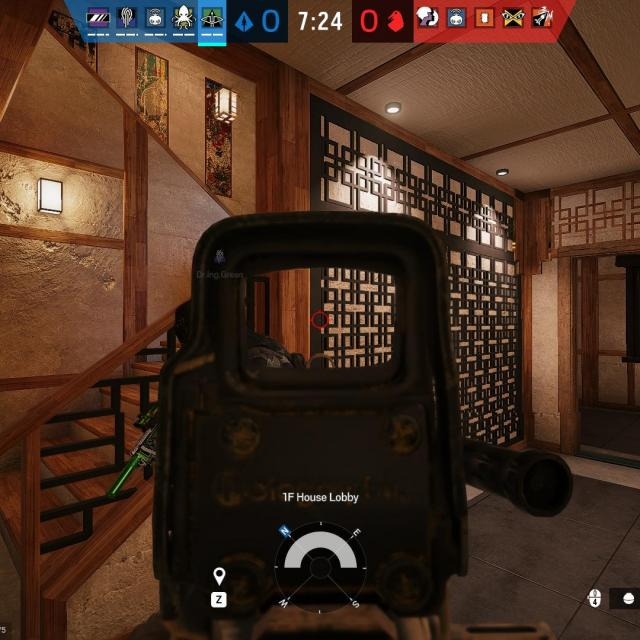Character: (102, 295, 314, 502)
Friend_label: (192, 246, 246, 281)
